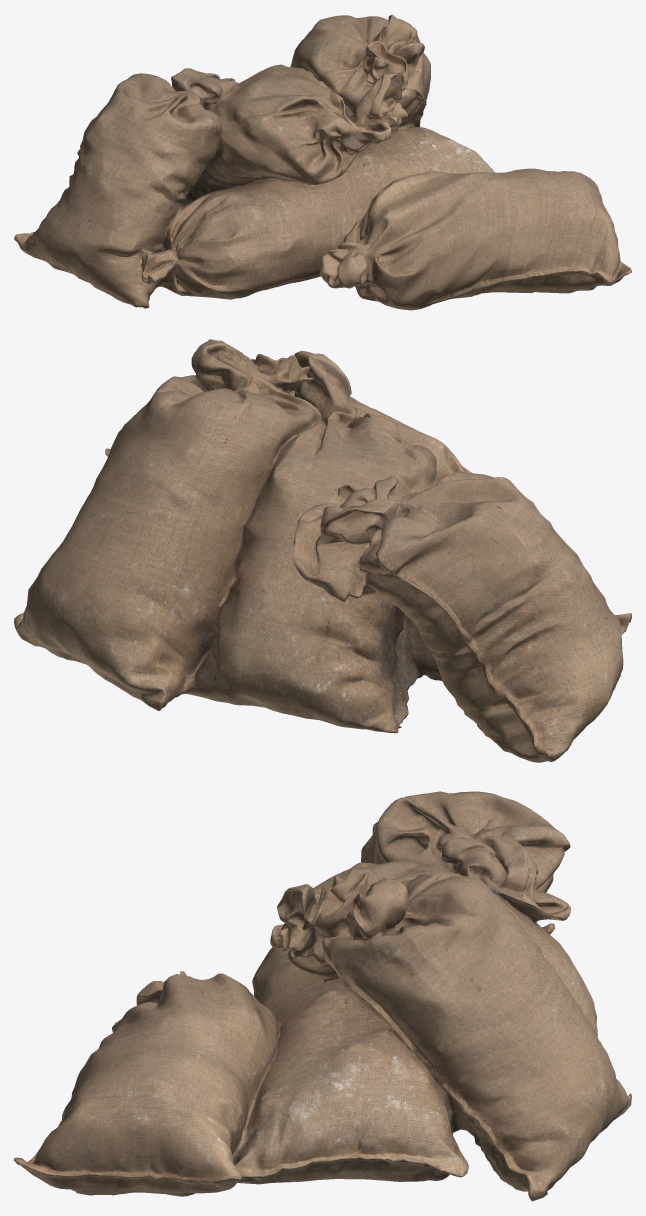
File: Military_Trenches_Pile_Sandbag_Canvas_01_yd0tae2_High.gltf
3 renders of one model, top to bottom at view 1: azimuth 30°, elevation 25°; view 2: azimuth 150°, elevation 25°; view 3: azimuth 270°, elevation 25°, orthographic. The views are drawn at different scales.
Parts seen in each view (by area): view 1: yd0tae2_LOD0_TIER1_000; view 2: yd0tae2_LOD0_TIER1_000; view 3: yd0tae2_LOD0_TIER1_000.
Boxes of the visible parts, x1=… form: yd0tae2_LOD0_TIER1_000: x1=14, y1=14, x2=631, y2=310; yd0tae2_LOD0_TIER1_000: x1=14, y1=339, x2=631, y2=762; yd0tae2_LOD0_TIER1_000: x1=14, y1=791, x2=631, y2=1201.
Bounding box in the file's own units: 0.9558 × 0.4125 × 0.8522.
